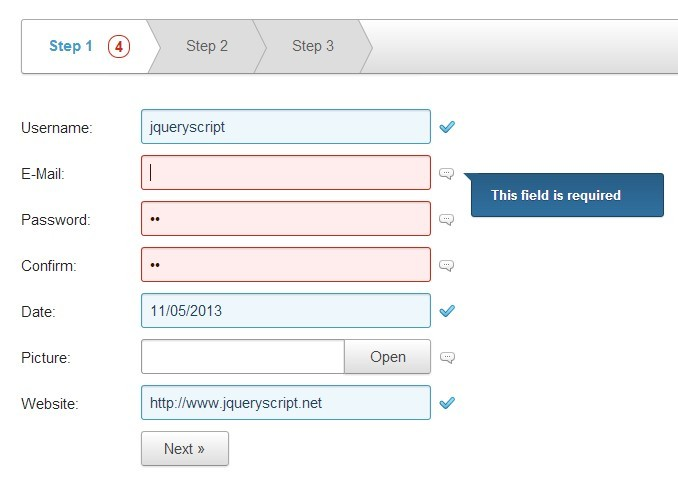_form_: (10, 72, 437, 484), (6, 3, 484, 102)
button: (341, 337, 434, 376), (139, 430, 229, 466)
field: (137, 383, 430, 421), (140, 291, 430, 329), (138, 199, 432, 236), (138, 108, 431, 145), (139, 246, 430, 283), (137, 154, 431, 190), (139, 336, 346, 374)
field_with_label: (22, 381, 432, 423), (20, 290, 433, 331), (20, 197, 434, 237), (20, 152, 432, 192), (21, 244, 433, 284), (17, 107, 433, 146), (21, 335, 342, 377)
